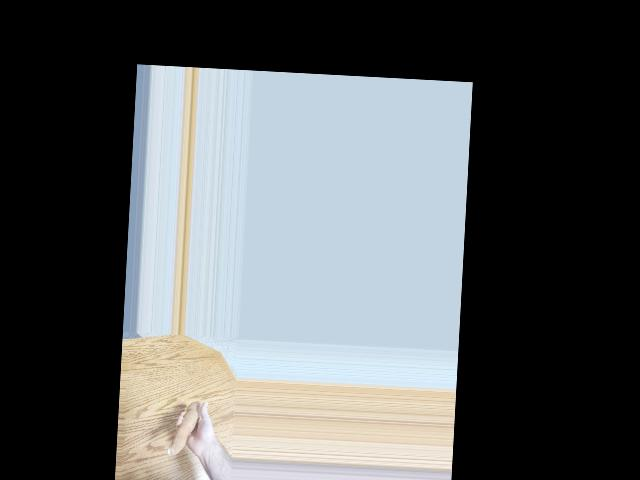sweet_potato: (167, 397, 199, 458)
